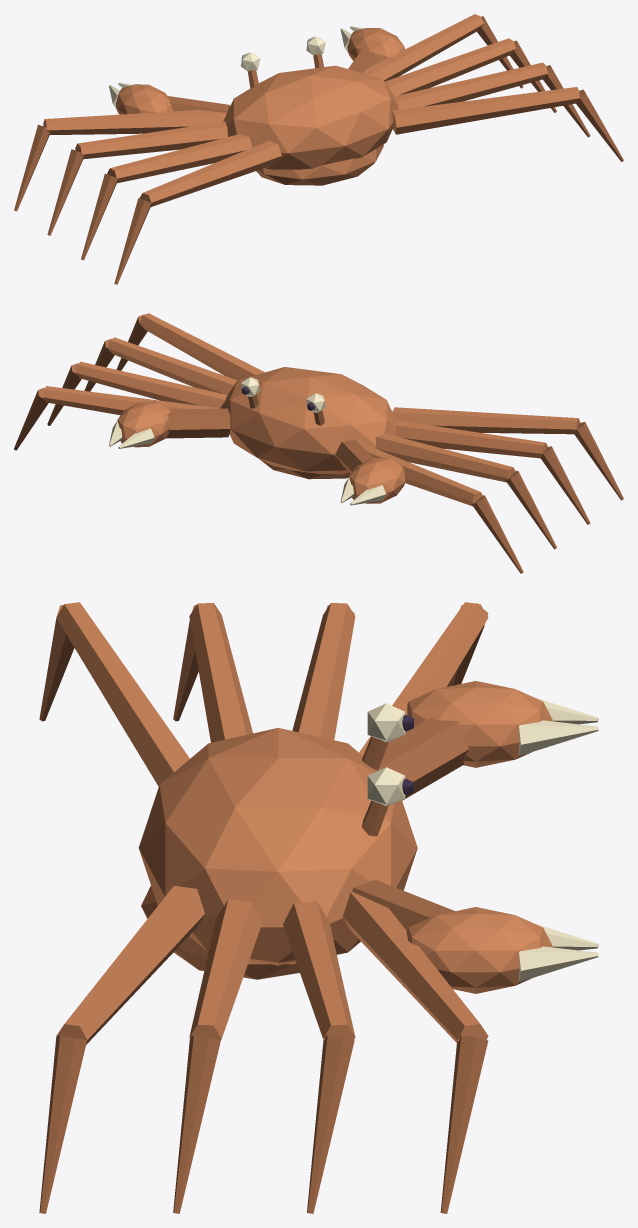
The model's file is SpiderCrab.fbx.
The picture shows the model from 3 angles, top to bottom: view 1: azimuth 30°, elevation 25°; view 2: azimuth 150°, elevation 25°; view 3: azimuth 270°, elevation 25°; orthographic projection. The views are drawn at different scales.
Parts seen in each view (by area): view 1: Carapace, LegUpper-1_3, LegUpper1_0, LegUpper1_3, LegUpper1_1, LegUpper-1_2, LegUpper1_2, LegUpper-1_1, LegUpper-1_0, Abdomen, Claw1, Claw-1 (+10 smaller); view 2: Carapace, LegUpper1_3, LegUpper1_2, LegUpper-1_1, LegUpper1_1, LegUpper-1_2, LegUpper-1_3, LegUpper-1_0, Arm-1, LegUpper1_0, Claw1, Claw-1 (+12 smaller); view 3: Carapace, Claw-1, LegUpper-1_3, LegUpper1_3, Claw1, LegUpper-1_0, LegUpper-1_2, LegUpper-1_1, LegUpper1_2, LegUpper1_1, Arm1, LegUpper1_0 (+12 smaller).
Part boxes in pixels (x1,y1,x2,y2): Carapace: [223, 65, 398, 170]; LegUpper-1_3: [392, 87, 579, 134]; LegUpper1_0: [43, 110, 226, 134]; LegUpper1_3: [139, 141, 281, 206]; LegUpper1_1: [75, 121, 227, 159]; LegUpper-1_2: [394, 62, 548, 109]; LegUpper1_2: [107, 134, 252, 183]; LegUpper-1_1: [385, 38, 516, 95]; LegUpper-1_0: [363, 14, 483, 81]; Abdomen: [256, 144, 384, 185]; Claw1: [116, 84, 173, 114]; Claw-1: [347, 28, 404, 62]; Carapace: [220, 367, 395, 474]; LegUpper1_3: [392, 407, 579, 434]; LegUpper1_2: [394, 420, 547, 458]; LegUpper-1_1: [75, 361, 227, 408]; LegUpper1_1: [375, 433, 515, 482]; LegUpper-1_2: [107, 337, 237, 394]; LegUpper-1_3: [139, 313, 264, 380]; LegUpper-1_0: [43, 386, 220, 415]; Arm-1: [166, 408, 230, 438]; LegUpper1_0: [357, 441, 482, 506]; Claw1: [349, 458, 405, 503]; Claw-1: [117, 401, 170, 447]; Carapace: [138, 728, 417, 965]; Claw-1: [406, 907, 553, 993]; LegUpper-1_3: [56, 885, 204, 1044]; LegUpper1_3: [56, 602, 189, 786]; Claw1: [407, 681, 552, 767]; LegUpper-1_0: [342, 892, 488, 1042]; LegUpper-1_2: [189, 899, 261, 1040]; LegUpper-1_1: [283, 900, 355, 1040]; LegUpper1_2: [189, 603, 252, 742]; LegUpper1_1: [292, 602, 355, 739]; Arm1: [379, 717, 469, 800]; LegUpper1_0: [359, 602, 488, 755].
Size of the model in its own units: 7.08 by 1.54 by 3.37.
